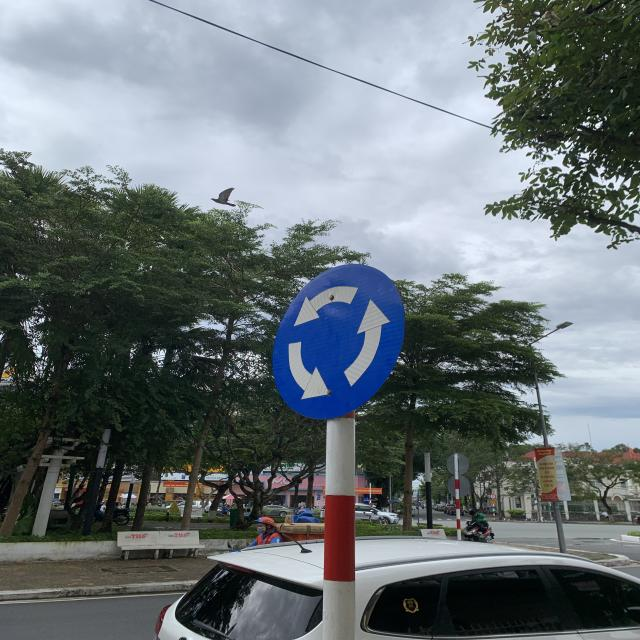Xe_Bus: (270, 263, 406, 422)
